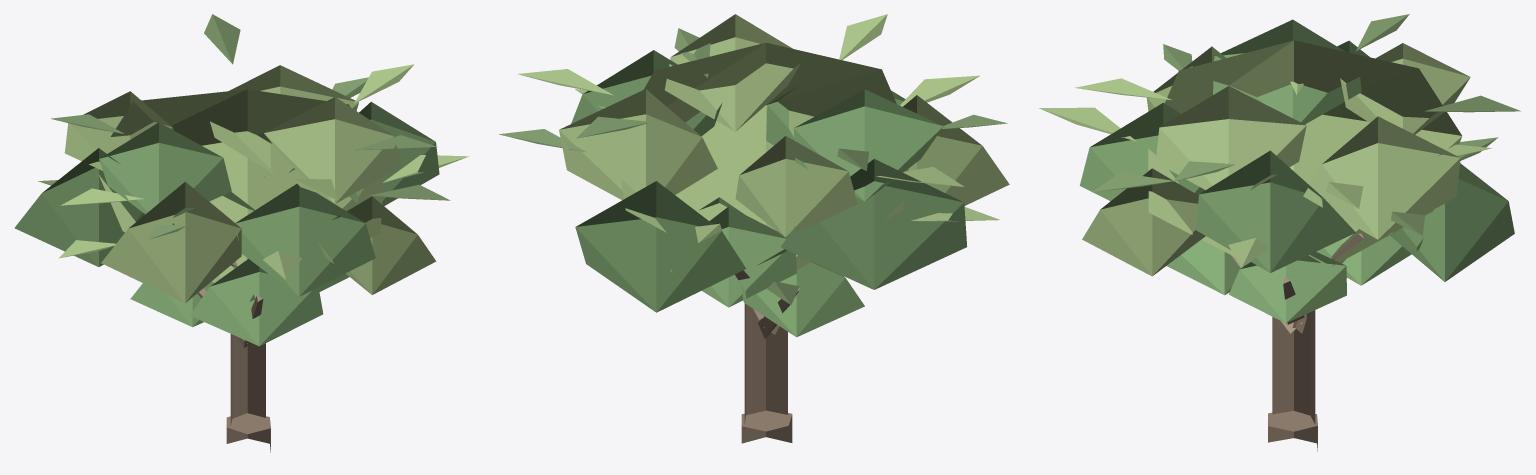
The model's file is shu.fenghuang@subadult__spring.glb.
3 renders of one model, left to right at view 1: azimuth 30°, elevation 25°; view 2: azimuth 150°, elevation 25°; view 3: azimuth 270°, elevation 25°, orthographic. The views are drawn at different scales.
Visible parts, largest first — view 1: shu.fenghuang@subadult__spring; view 2: shu.fenghuang@subadult__spring; view 3: shu.fenghuang@subadult__spring.
Boxes of the visible parts, x1,y1,x2,y2 form: shu.fenghuang@subadult__spring: [14, 14, 468, 452]; shu.fenghuang@subadult__spring: [499, 14, 1009, 443]; shu.fenghuang@subadult__spring: [1039, 14, 1520, 451].
Size of the model in its own units: 7.83 by 6.64 by 7.39.
